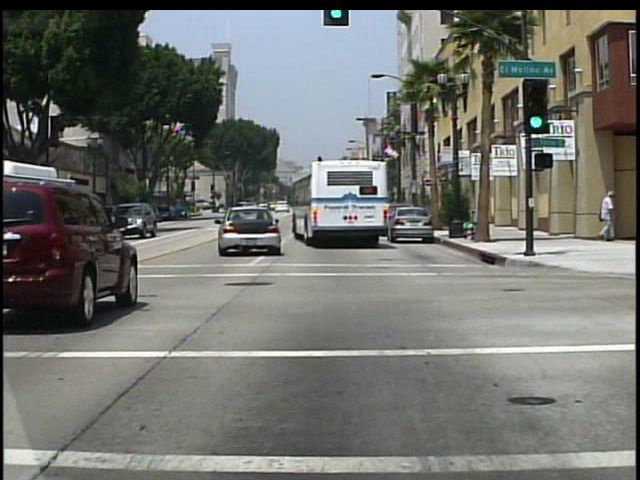person: (596, 191, 620, 244)
